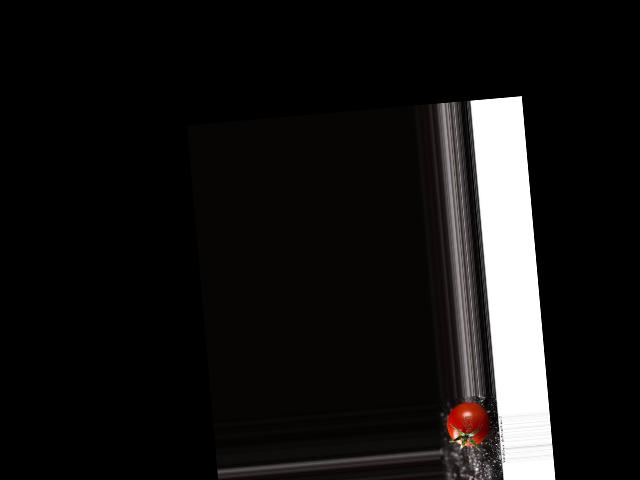tomato: (445, 400, 491, 448)
